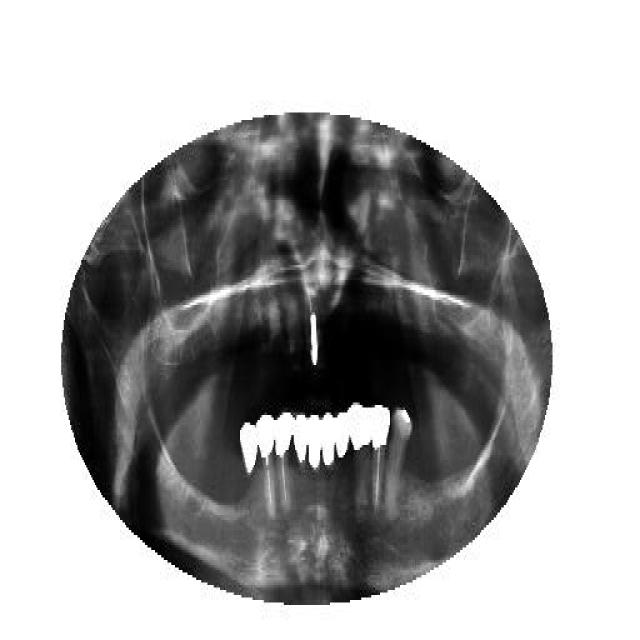Fillings: (348, 400, 372, 515), (238, 418, 258, 480), (308, 408, 322, 480), (321, 405, 335, 475), (294, 408, 308, 478), (335, 402, 349, 470)
Implant: (271, 415, 294, 517), (370, 400, 390, 510), (256, 413, 275, 515), (310, 300, 319, 372)
